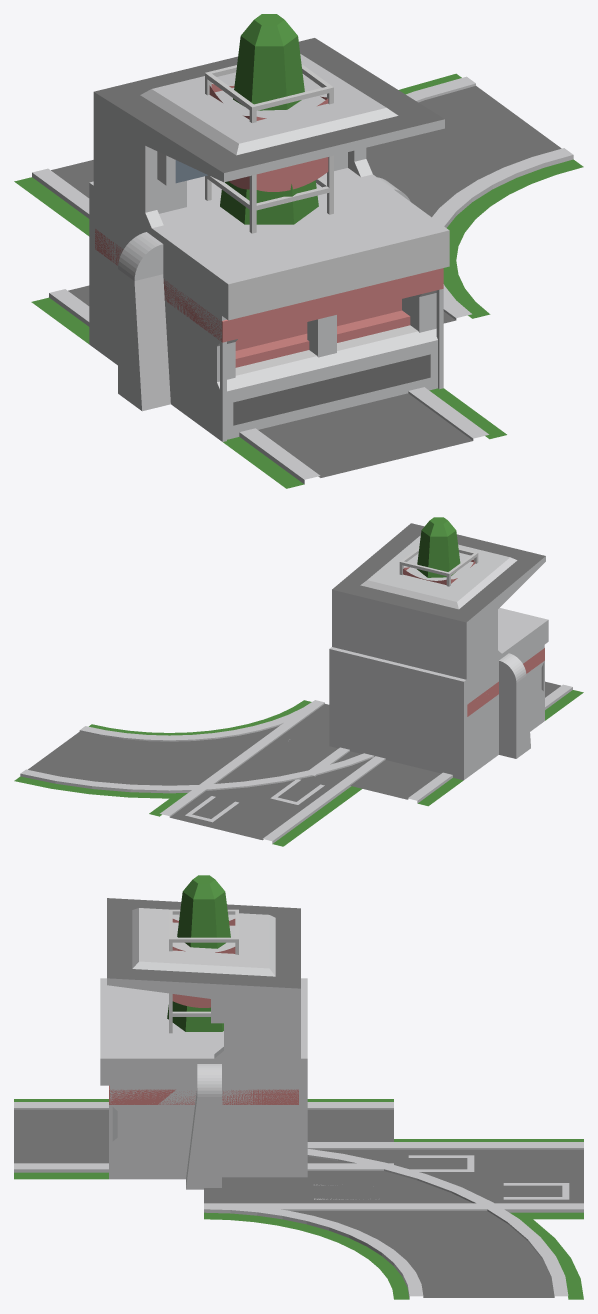
File: track.glb
3 renders of one model, top to bottom at view 1: azimuth 30°, elevation 25°; view 2: azimuth 150°, elevation 25°; view 3: azimuth 270°, elevation 25°, orthographic. The views are drawn at different scales.
Parts seen in each view (by area): view 1: grandStandCovered, pitsGarage, roadStart, roadCornerLarge, tent, treeLarge, bannerTowerRed, roadStartPositions, roadStraight; view 2: grandStandCovered, pitsGarage, roadCornerLarge, roadStartPositions, roadStart, treeLarge, roadStraight, tent, bannerTowerRed; view 3: grandStandCovered, roadCornerLarge, roadStart, pitsGarage, roadStartPositions, roadStraight, treeLarge, tent, bannerTowerRed.
Boxes of the visible parts, x1=… form: grandStandCovered: x1=93, y1=38, x2=444, y2=440; pitsGarage: x1=89, y1=168, x2=449, y2=437; roadStart: x1=31, y1=177, x2=506, y2=488; roadCornerLarge: x1=366, y1=73, x2=583, y2=320; tent: x1=95, y1=229, x2=443, y2=441; treeLarge: x1=220, y1=14, x2=318, y2=224; bannerTowerRed: x1=205, y1=64, x2=333, y2=233; roadStartPositions: x1=14, y1=160, x2=488, y2=323; roadStraight: x1=443, y1=280, x2=490, y2=322; grandStandCovered: x1=332, y1=523, x2=545, y2=774; pitsGarage: x1=329, y1=608, x2=548, y2=780; roadCornerLarge: x1=14, y1=700, x2=374, y2=798; roadStartPositions: x1=149, y1=701, x2=385, y2=846; roadStart: x1=309, y1=653, x2=583, y2=806; treeLarge: x1=417, y1=517, x2=460, y2=577; roadStraight: x1=238, y1=700, x2=385, y2=786; tent: x1=467, y1=648, x2=544, y2=777; bannerTowerRed: x1=399, y1=548, x2=478, y2=586; grandStandCovered: x1=107, y1=898, x2=300, y2=1179; roadCornerLarge: x1=204, y1=1149, x2=583, y2=1299; roadStart: x1=14, y1=1064, x2=393, y2=1189; pitsGarage: x1=100, y1=978, x2=307, y2=1178; roadStartPositions: x1=204, y1=1139, x2=583, y2=1219; roadStraight: x1=204, y1=1142, x2=393, y2=1219; treeLarge: x1=167, y1=875, x2=230, y2=1031; tent: x1=109, y1=1085, x2=298, y2=1179; bannerTowerRed: x1=169, y1=909, x2=238, y2=1033.
Size of the model in its own units: 2.63 by 1.51 by 3.
